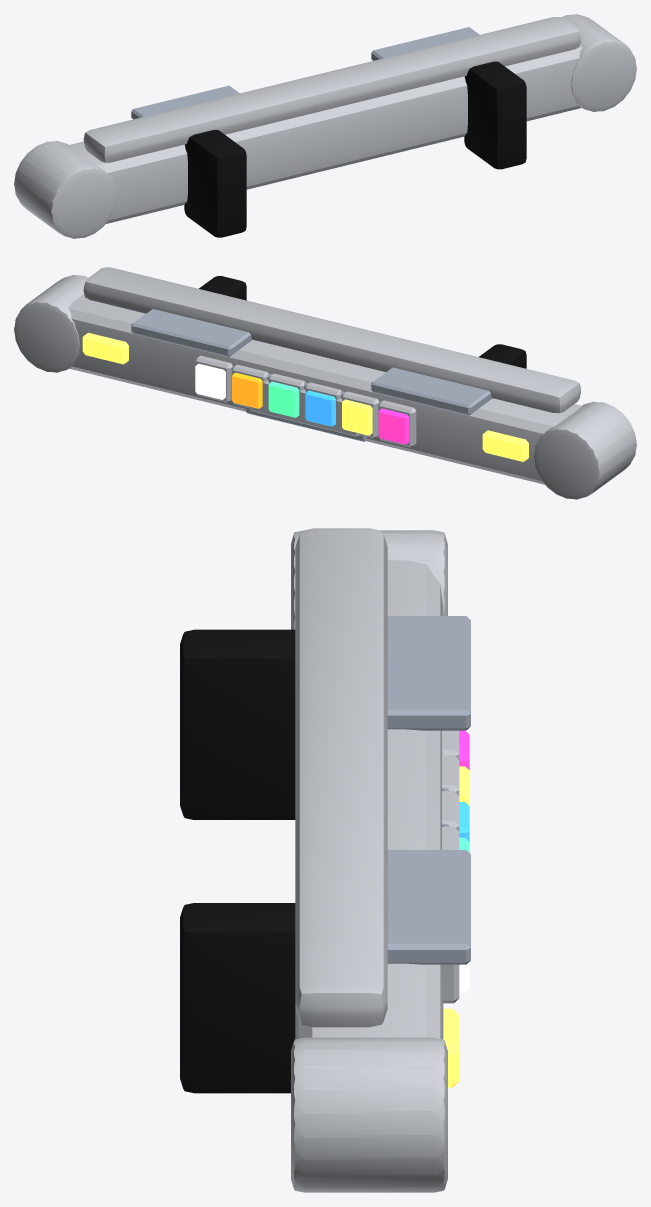
File: fb_standard_chrome.glb
3 renders of one model, top to bottom at view 1: azimuth 30°, elevation 25°; view 2: azimuth 150°, elevation 25°; view 3: azimuth 270°, elevation 25°, orthographic. The views are drawn at different scales.
Visible parts, largest first — view 1: chrome, plastic_black, steel; view 2: chrome, steel, lamp_amber, plastic_black, paint_white, lamp_green, lamp_pink, lamp_blue, lamp_orange, lamp_white; view 3: chrome, plastic_black, steel, lamp_amber.
Boxes of the visible parts, box(x1,y1,x2,y2) form: chrome: box(14, 14, 636, 238); plastic_black: box(184, 61, 526, 237); steel: box(131, 27, 479, 119); chrome: box(14, 267, 636, 499); steel: box(131, 309, 492, 441); lamp_amber: box(82, 332, 528, 461); plastic_black: box(199, 276, 526, 368); paint_white: box(249, 380, 359, 436); lamp_green: box(268, 381, 299, 417); lamp_pink: box(378, 408, 409, 444); lamp_blue: box(305, 390, 335, 426); lamp_orange: box(232, 372, 262, 408); lamp_white: box(195, 363, 225, 399); chrome: box(291, 528, 459, 1192); plastic_black: box(180, 629, 295, 1093); steel: box(387, 616, 470, 964); lamp_amber: box(443, 766, 469, 1087).
Bounding box in the file's own units: 2.94 × 0.45 × 0.63.
